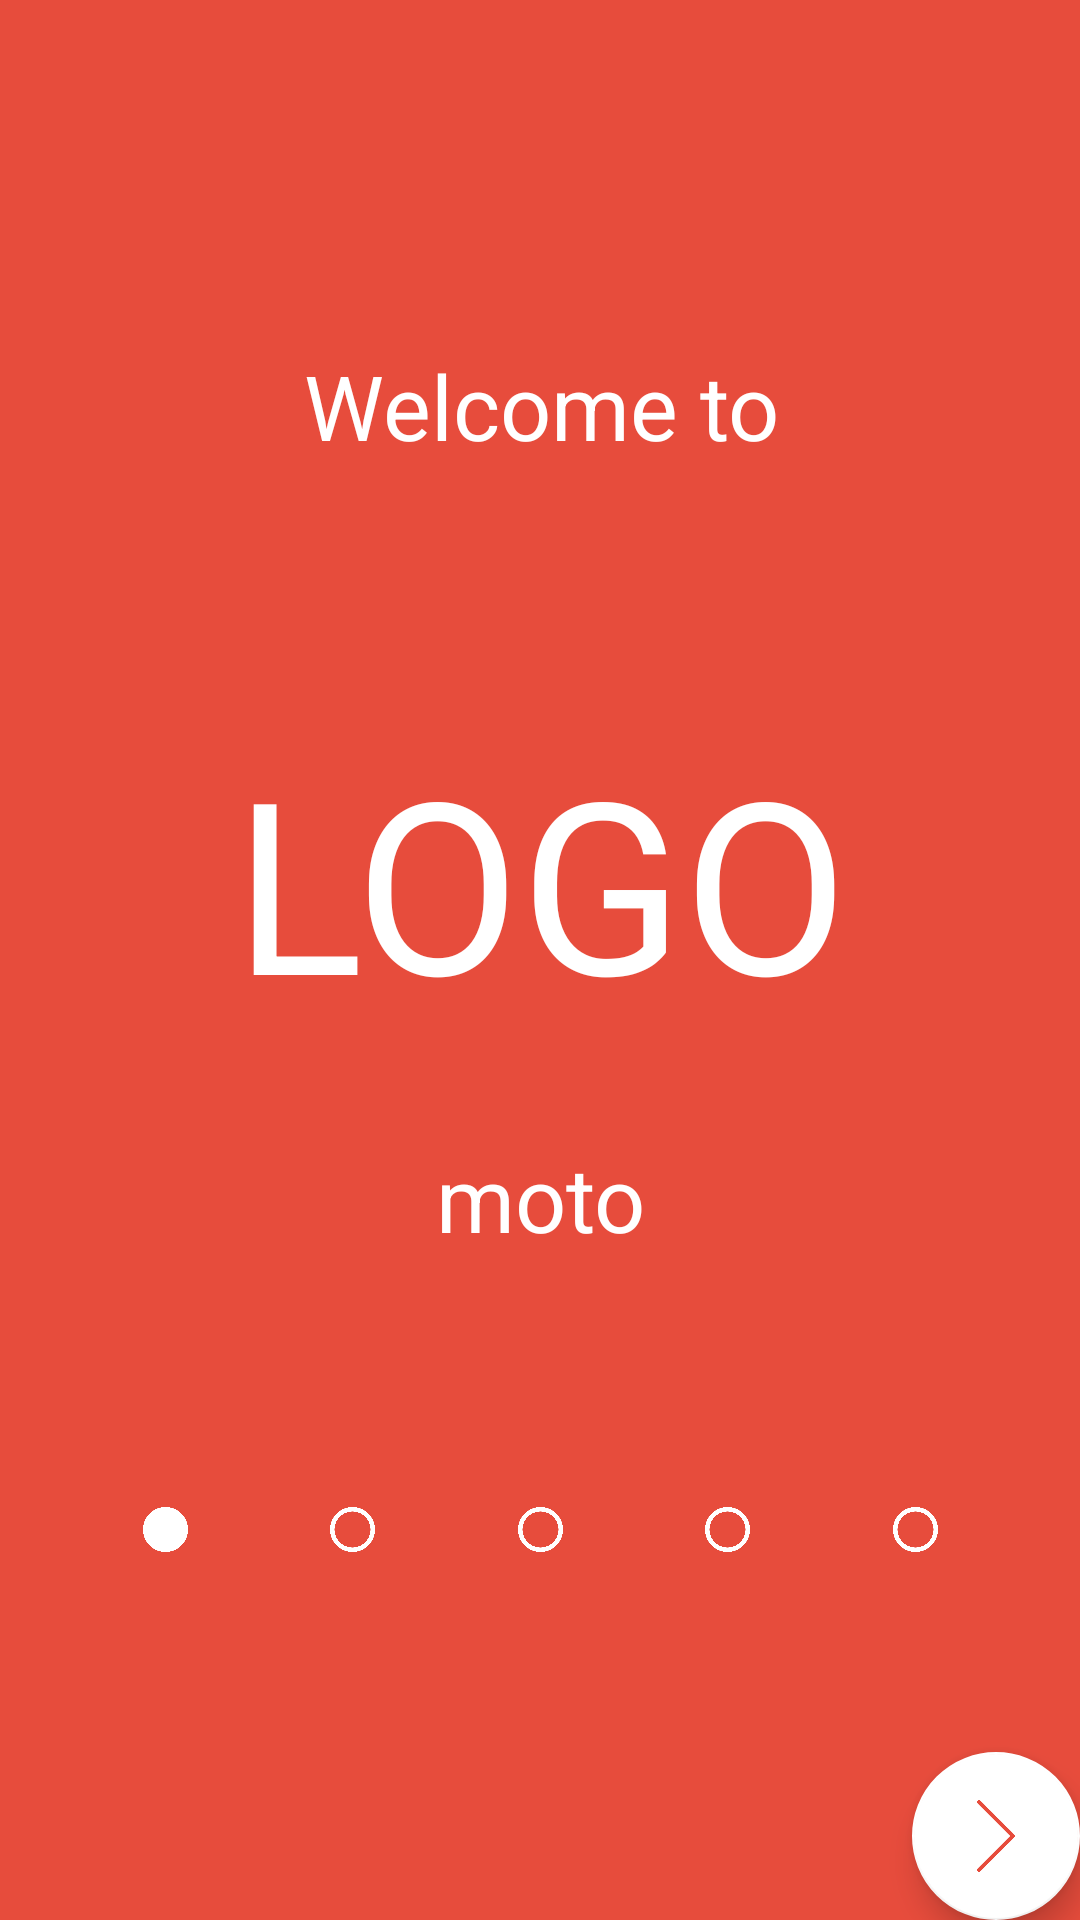

Named icons in this screenshot (1080px x 1920px) and their centers, (x=x, y=y):
next: (x=996, y=1836)
